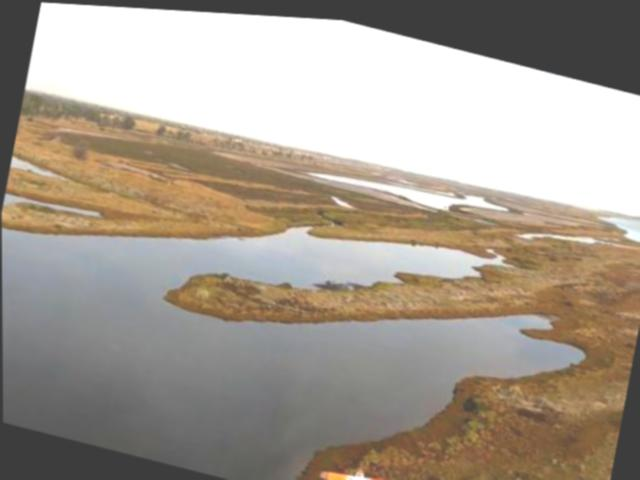uav: (309, 451, 400, 480)
